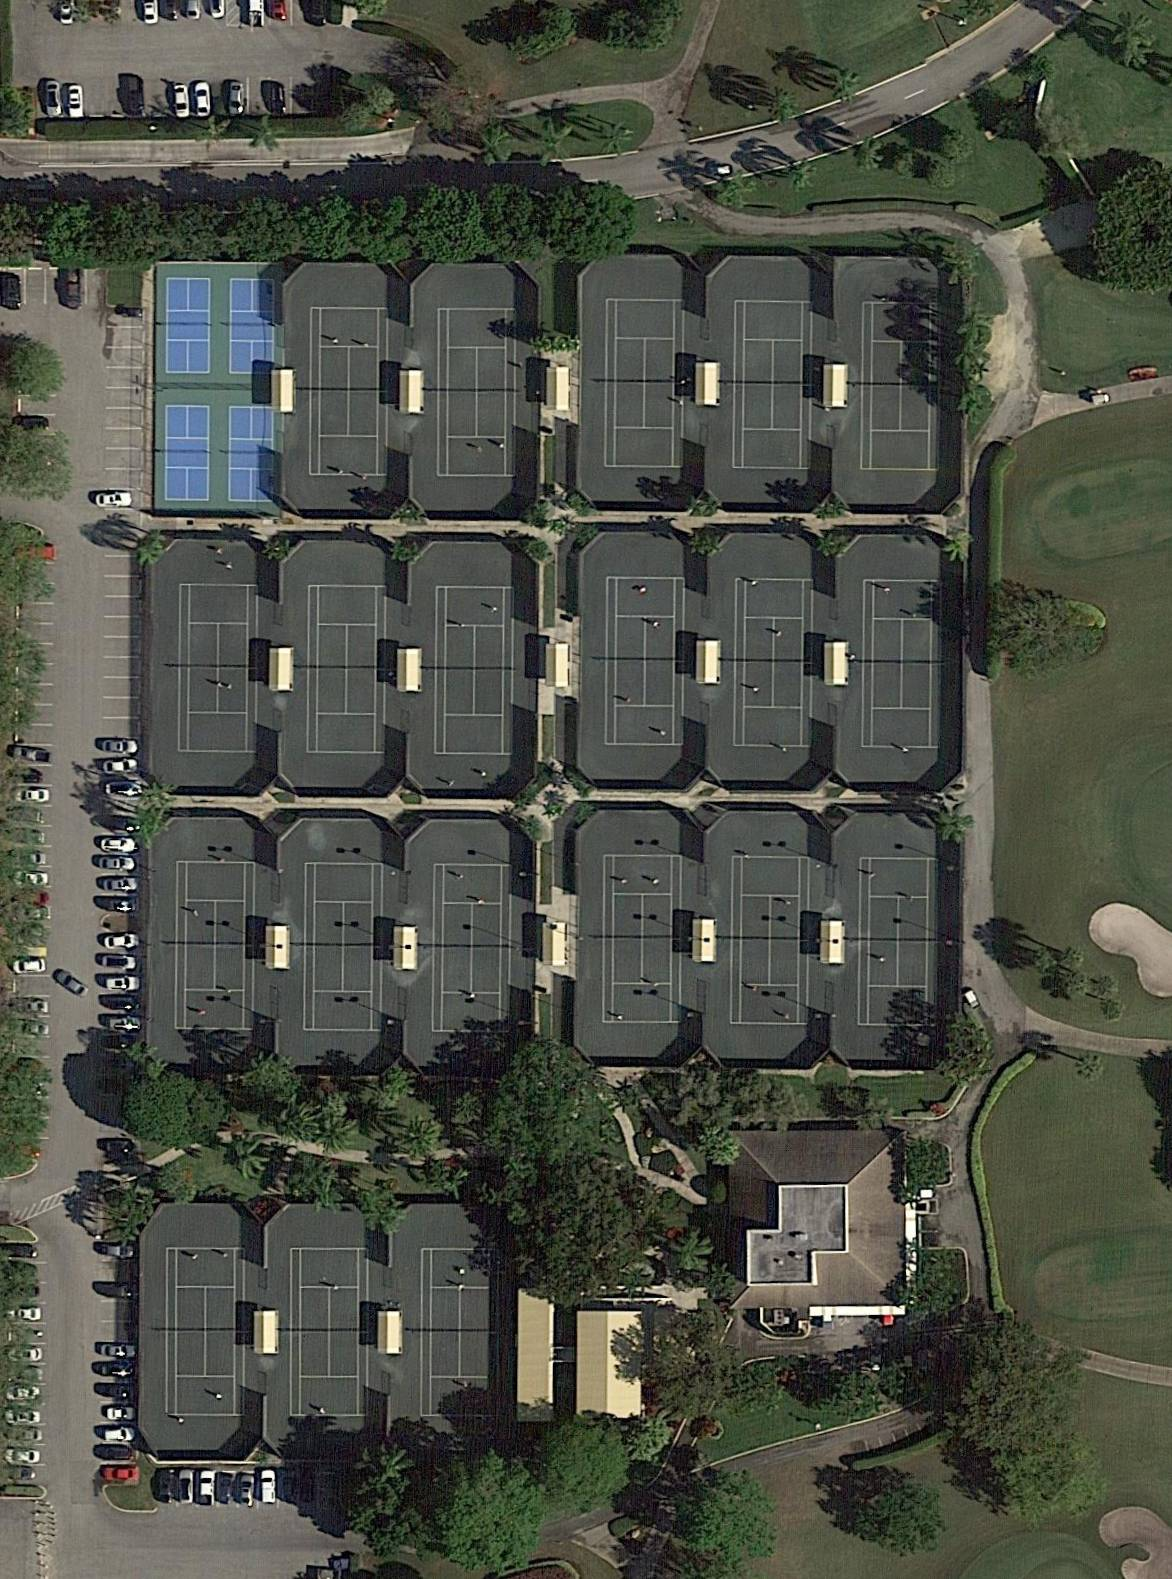small vehicle: (54, 967, 90, 1001), (125, 76, 147, 117), (11, 745, 53, 766), (101, 876, 141, 897), (3, 276, 25, 313), (93, 1361, 135, 1380), (6, 1343, 45, 1363), (101, 1463, 139, 1483), (11, 869, 49, 889), (100, 758, 140, 777), (270, 81, 291, 117), (196, 1470, 217, 1506), (105, 779, 144, 798), (217, 1470, 237, 1507), (109, 1014, 142, 1036), (103, 933, 141, 952), (4, 1447, 42, 1466), (104, 897, 142, 916), (12, 955, 48, 975), (96, 1384, 138, 1401), (101, 836, 138, 855), (104, 975, 141, 994), (6, 1305, 44, 1323), (15, 1021, 53, 1039), (13, 999, 49, 1018), (100, 854, 137, 872), (100, 955, 139, 972), (100, 739, 138, 756), (95, 492, 133, 509), (4, 1407, 42, 1424), (172, 84, 190, 119), (15, 786, 50, 804), (100, 995, 137, 1012), (105, 1404, 138, 1423), (195, 82, 212, 118), (238, 1474, 256, 1508), (176, 1469, 194, 1503), (100, 1342, 136, 1359), (45, 80, 61, 118), (5, 1385, 43, 1401), (5, 1427, 43, 1443), (228, 82, 246, 115), (68, 85, 85, 118), (102, 1427, 135, 1444), (261, 1469, 276, 1503)
tennis court: (421, 1248, 508, 1417), (858, 857, 940, 1028), (732, 300, 814, 470), (431, 863, 513, 1033), (434, 586, 516, 756), (861, 302, 943, 471), (862, 579, 944, 748), (289, 1247, 371, 1416), (174, 863, 256, 1031), (733, 579, 814, 748), (603, 855, 684, 1024), (437, 308, 518, 477), (731, 856, 812, 1024), (303, 864, 384, 1032), (605, 300, 686, 468), (179, 584, 259, 754), (606, 578, 686, 746), (307, 586, 387, 753), (311, 308, 390, 476), (167, 1248, 246, 1415)
